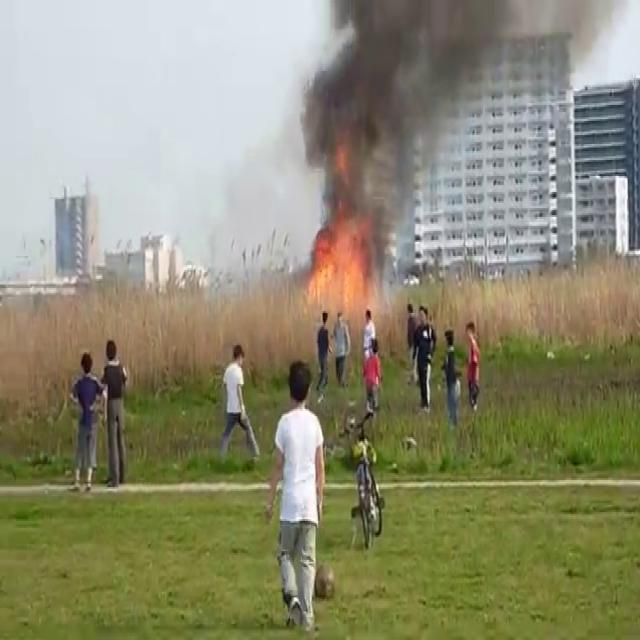Fire: (303, 234, 377, 318)
Smoke: (290, 0, 484, 247)
